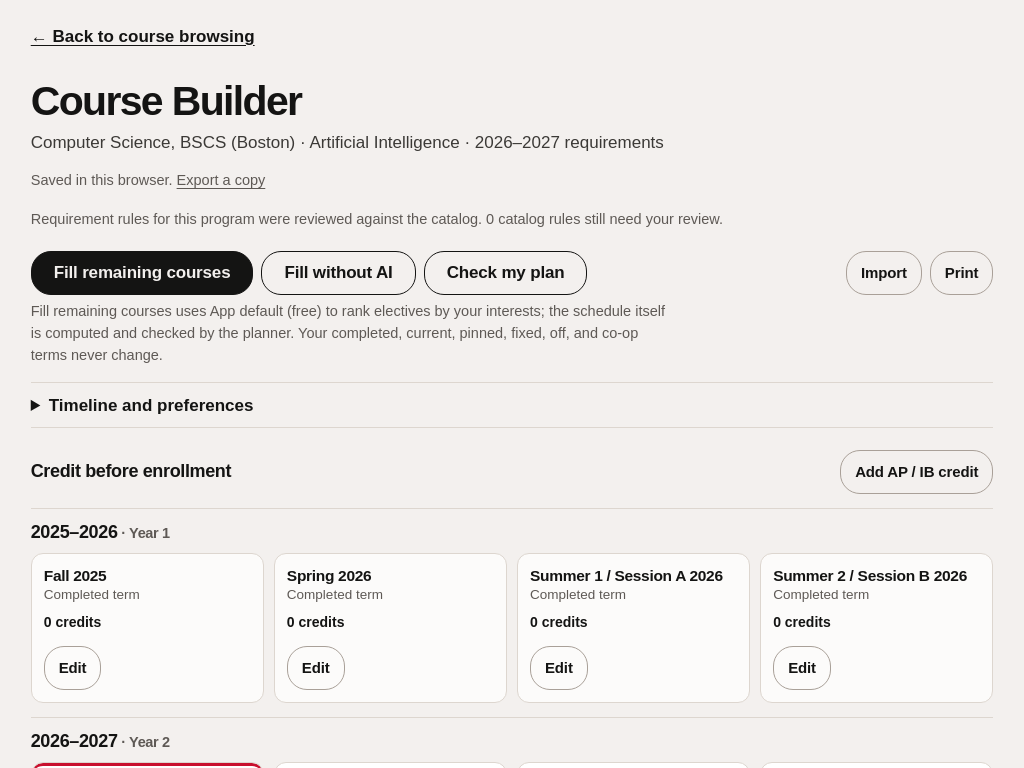
Test: a custom provider without a key never sends a request
expect the text "were reviewed against the catalog" is shown: met, box x1=31 y1=211 x2=723 y2=227
Click the button "Fill remaining courses". click: (142, 273)
box: x1=31 y1=251 x2=253 y2=295
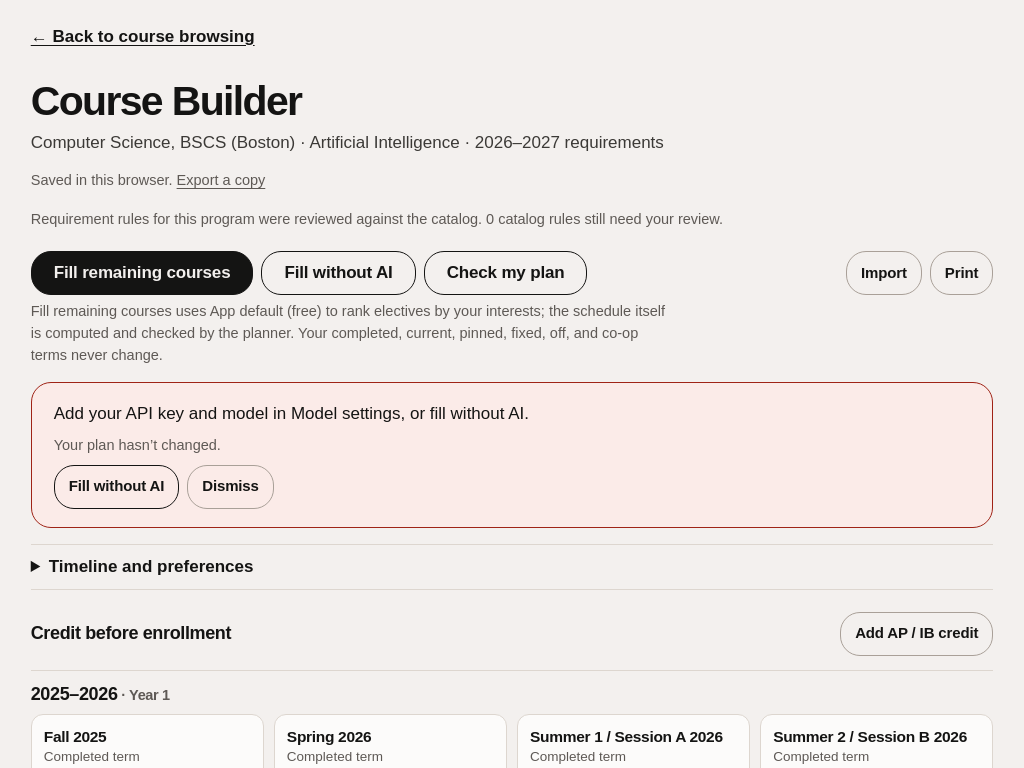
expect the text "Add your API key and model" is shown: met, box x1=54 y1=404 x2=529 y2=423
